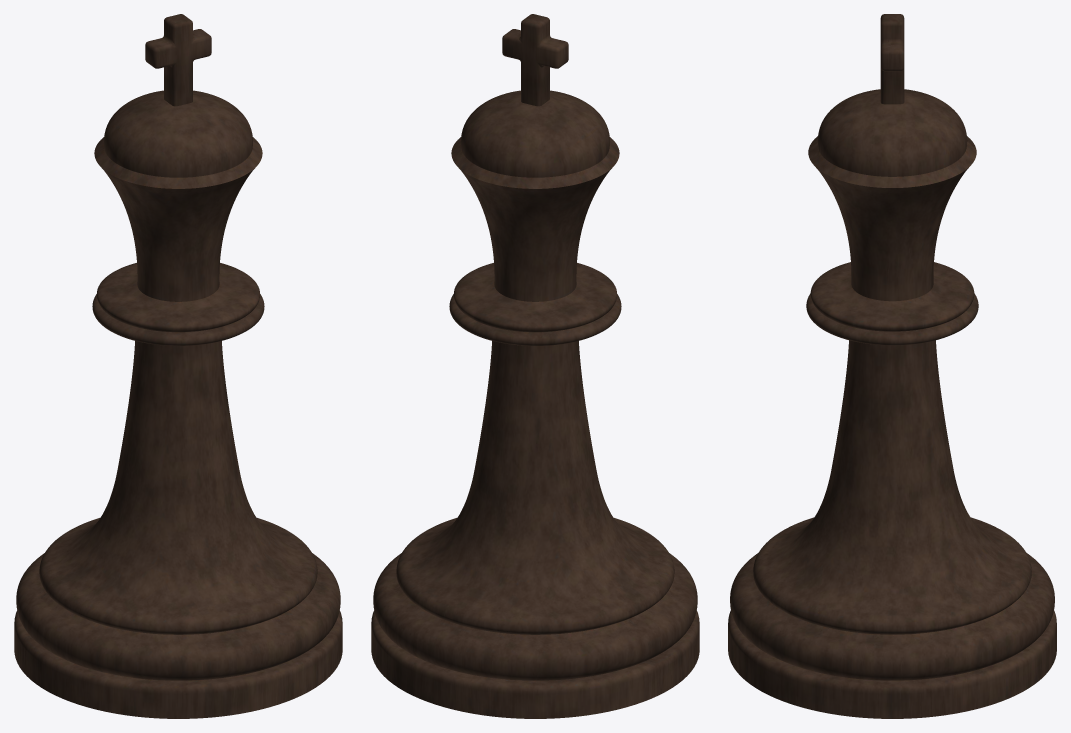
The model's file is koenig_schwarz.glb.
3 renders of one model, left to right at view 1: azimuth 30°, elevation 25°; view 2: azimuth 150°, elevation 25°; view 3: azimuth 270°, elevation 25°, orthographic.
Parts seen in each view (by area): view 1: koenig_schwarz; view 2: koenig_schwarz; view 3: koenig_schwarz.
Part boxes in pixels (x1,y1,x2,y2): koenig_schwarz: (14,14,342,718); koenig_schwarz: (371,14,699,718); koenig_schwarz: (728,14,1056,718).
Size of the model in its own units: 0.84 by 1.78 by 0.84.
1 material, 1 textured.
